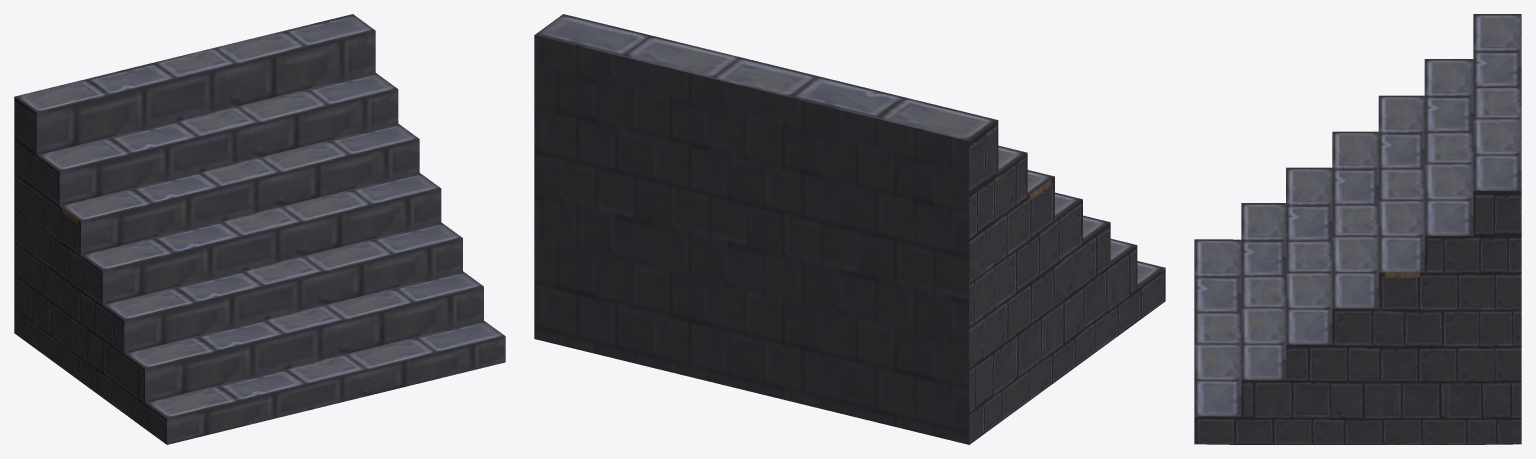
Rendered from dungeon_stairs.fbx.
3 renders of one model, left to right at view 1: azimuth 30°, elevation 25°; view 2: azimuth 150°, elevation 25°; view 3: azimuth 270°, elevation 25°, orthographic. The views are drawn at different scales.
Parts seen in each view (by area): view 1: suelo.002; view 2: suelo.002; view 3: suelo.002.
Part boxes in pixels (left/top/right/bottom): suelo.002: left=14, top=14, right=505, bottom=444; suelo.002: left=534, top=14, right=1165, bottom=444; suelo.002: left=1194, top=14, right=1521, bottom=444.
Size of the model in its own units: 300 by 200 by 234.
